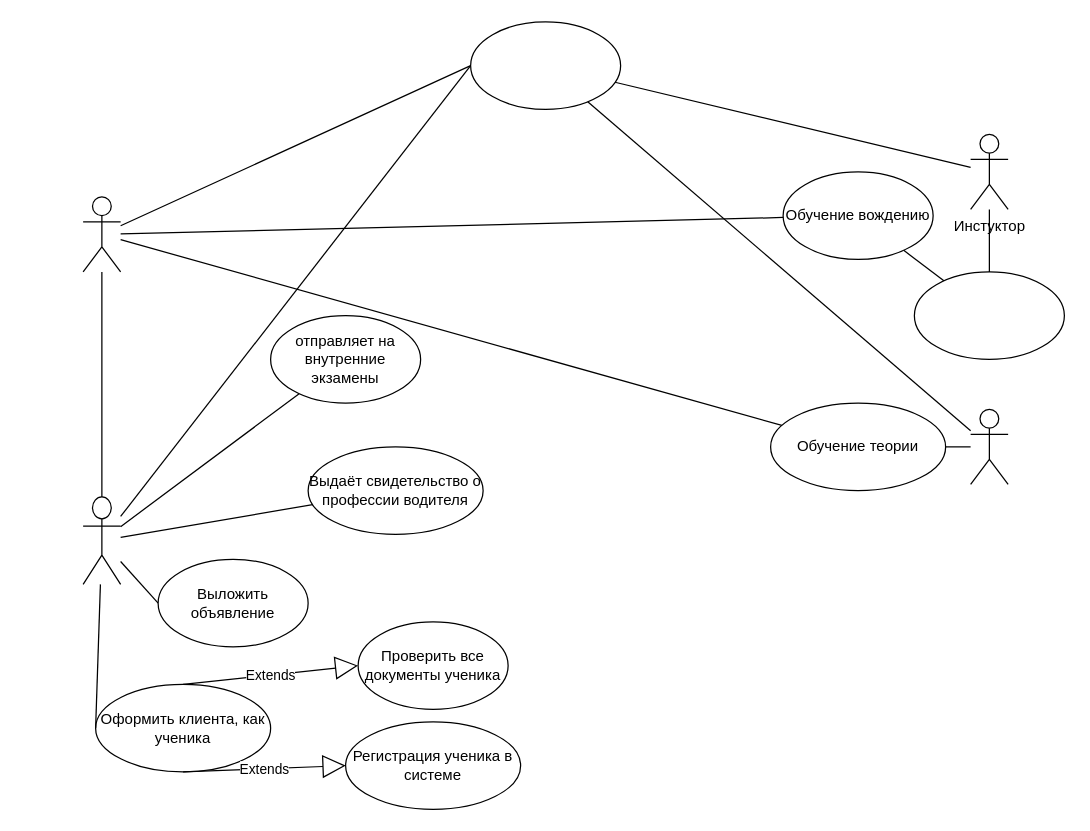
This 1090x831 diagram has some shape labels left out. Here are the shapes that lost their labels. From the top down, the centre of each, then its label:
the point at 545,65: База учеников
the point at 101,234: Клиент
the point at 988,315: Проверить пройден ли курс теории у ученика
the point at 988,446: Преподаватель теории
the point at 101,540: Менеджер по продажм
